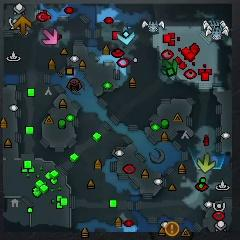x1: (43, 29, 59, 46)
x2: (197, 153, 216, 173)
x3: (116, 25, 135, 45)
x4: (161, 59, 179, 76)
x5: (14, 17, 31, 35)
